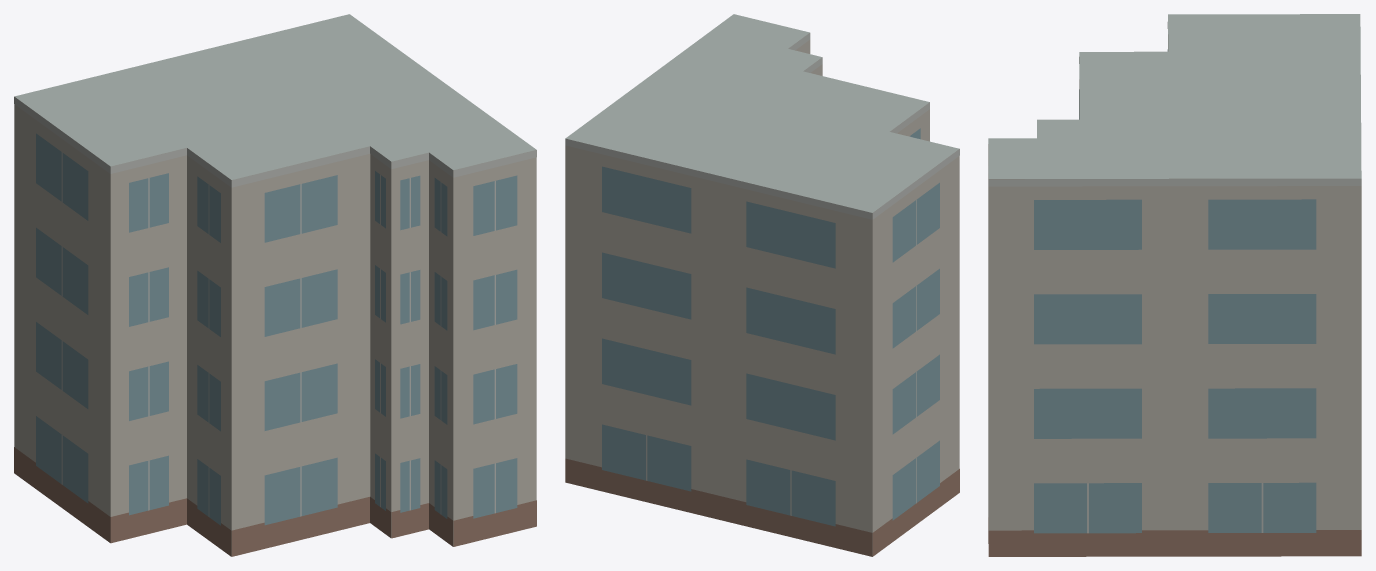
File: residential-da50ef62-e4e2-4b82-b3d8-aaacad381740.glb
3 views of the same model, side by side, from view 1: azimuth 30°, elevation 25°; view 2: azimuth 150°, elevation 25°; view 3: azimuth 270°, elevation 25° (orthographic). The views are drawn at different scales.
Parts seen in each view (by area): view 1: residential-da50ef62-e4e2-4b82-b3d8-aaacad381740.tmp; view 2: residential-da50ef62-e4e2-4b82-b3d8-aaacad381740.tmp; view 3: residential-da50ef62-e4e2-4b82-b3d8-aaacad381740.tmp.
Boxes of the visible parts, left/top/right/bottom form: residential-da50ef62-e4e2-4b82-b3d8-aaacad381740.tmp: left=14, top=14, right=536, bottom=556; residential-da50ef62-e4e2-4b82-b3d8-aaacad381740.tmp: left=565, top=14, right=959, bottom=556; residential-da50ef62-e4e2-4b82-b3d8-aaacad381740.tmp: left=988, top=14, right=1361, bottom=556.
Size of the model in its own units: 11.44 by 12.2 by 10.93.
